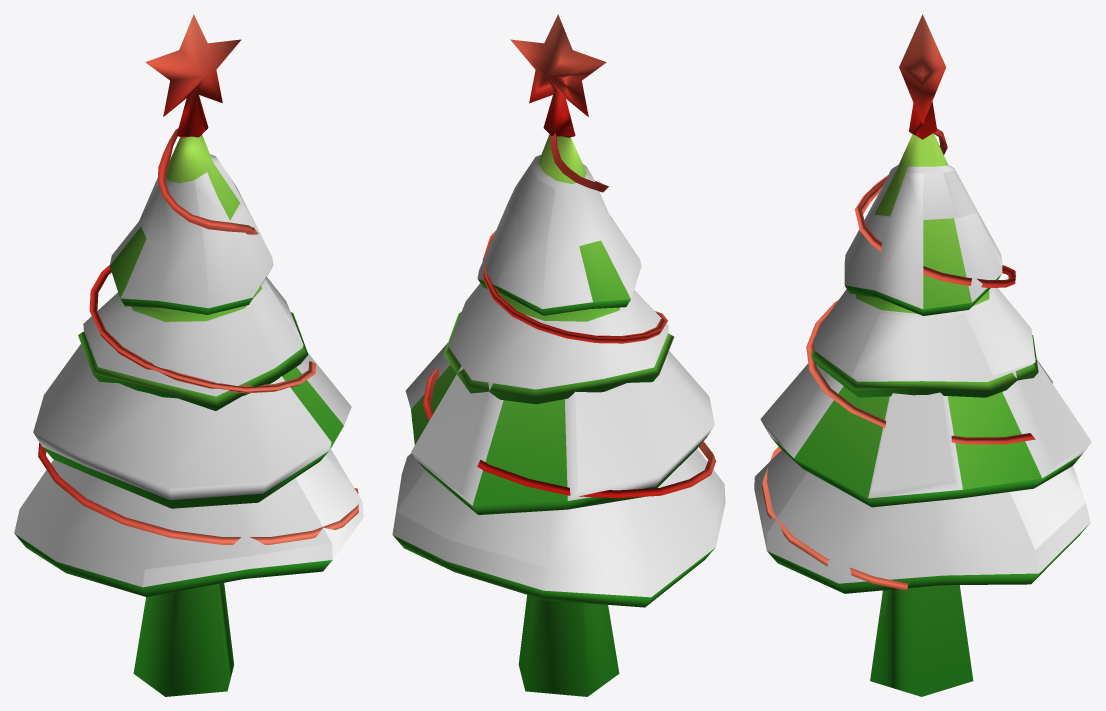
File: VEG0210045.fbx
3 renders of one model, left to right at view 1: azimuth 30°, elevation 25°; view 2: azimuth 150°, elevation 25°; view 3: azimuth 270°, elevation 25°, orthographic.
Visible parts, largest first — view 1: smVEG0210045; view 2: smVEG0210045; view 3: smVEG0210045.
Part boxes in pixels (bbox=[...]): smVEG0210045: bbox=[14, 14, 363, 696]; smVEG0210045: bbox=[392, 14, 725, 696]; smVEG0210045: bbox=[754, 14, 1091, 696].
Bounding box in the file's own units: 208 × 446 × 206.
Materials: 1 (1 with a texture image).
